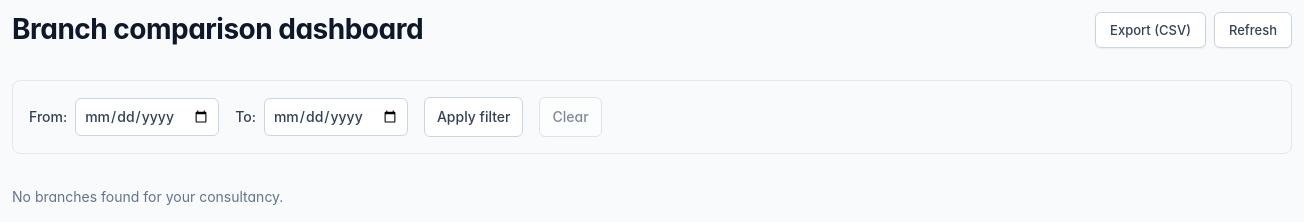
OwnerDashboardPage › should clear date filters on clear button click
Type "2024-01-01" into the date field with test id "start-date-input".
click(147, 117); type("2024-01-01")  # box left=75, top=98, right=219, bottom=136
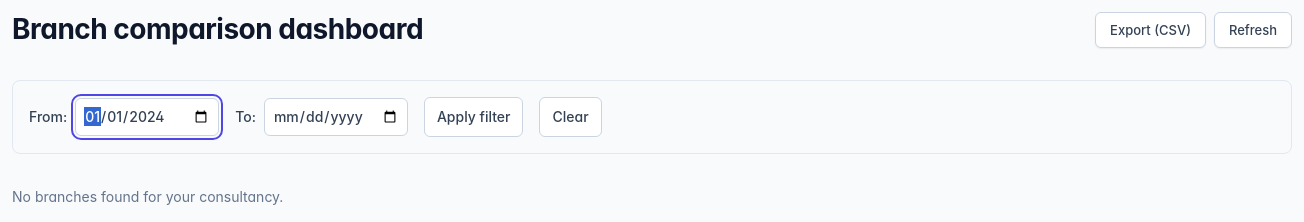
Click the button with test id "clear-filter".
click(571, 117)  # box left=540, top=97, right=602, bottom=137
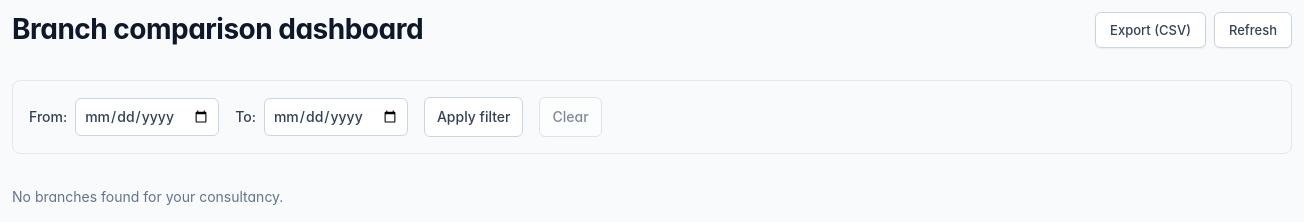
Expected: the date field with test id "start-date-input" is empty, left=75, top=98, right=219, bottom=136
